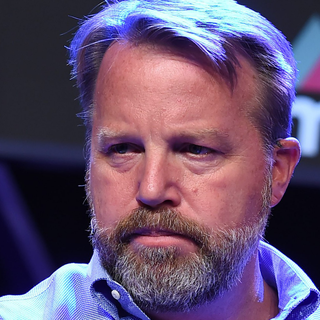eye: (168, 139, 225, 168), (100, 136, 152, 167)
